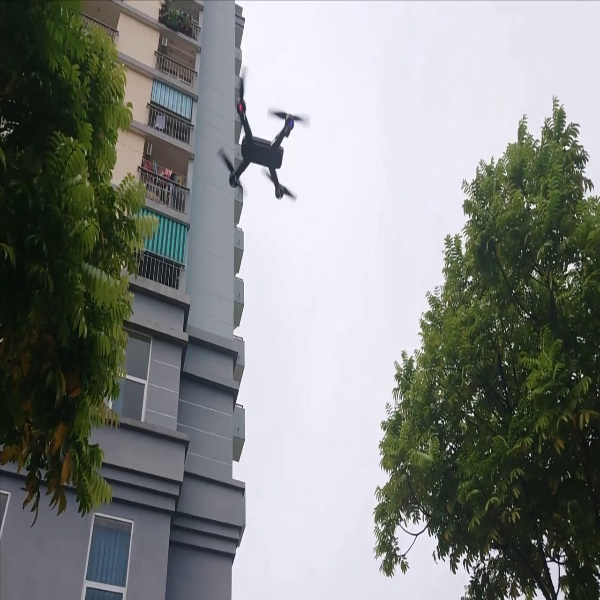drone: (212, 82, 312, 210)
